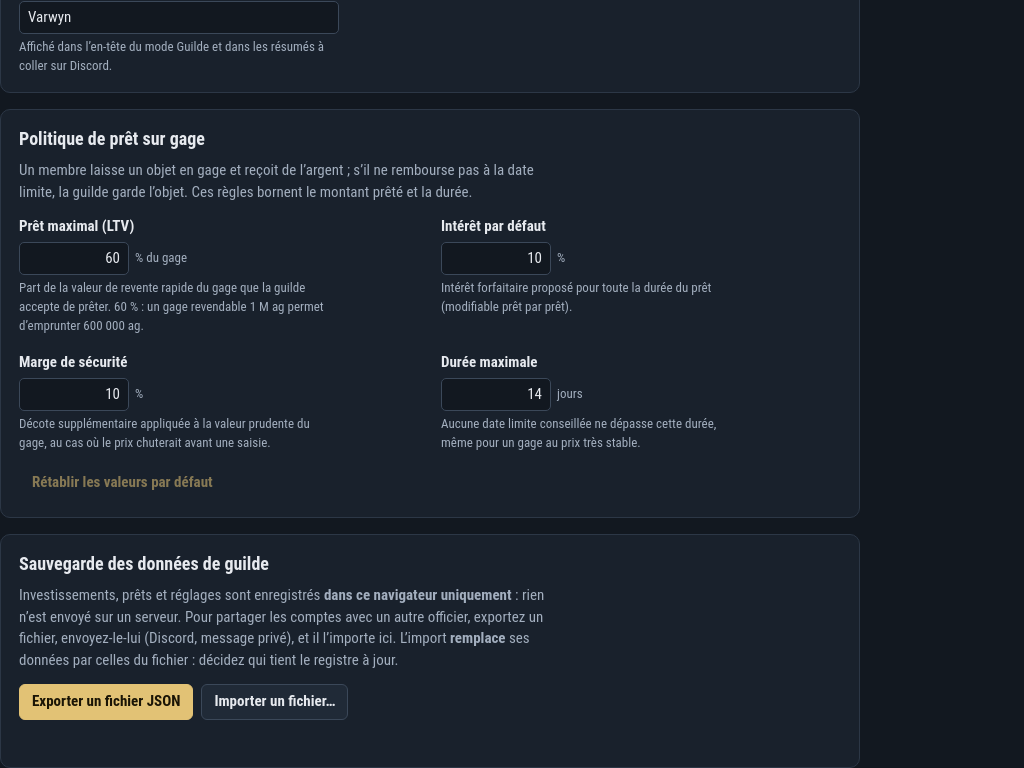
Test: réglages guilde : sauvegarde des données › export : fichier JSON horodaté avec investissements, prêts et réglages
(page scrolled)
Click the button "Exporter un fichier JSON": x=106, y=702 [19, 684, 193, 720]
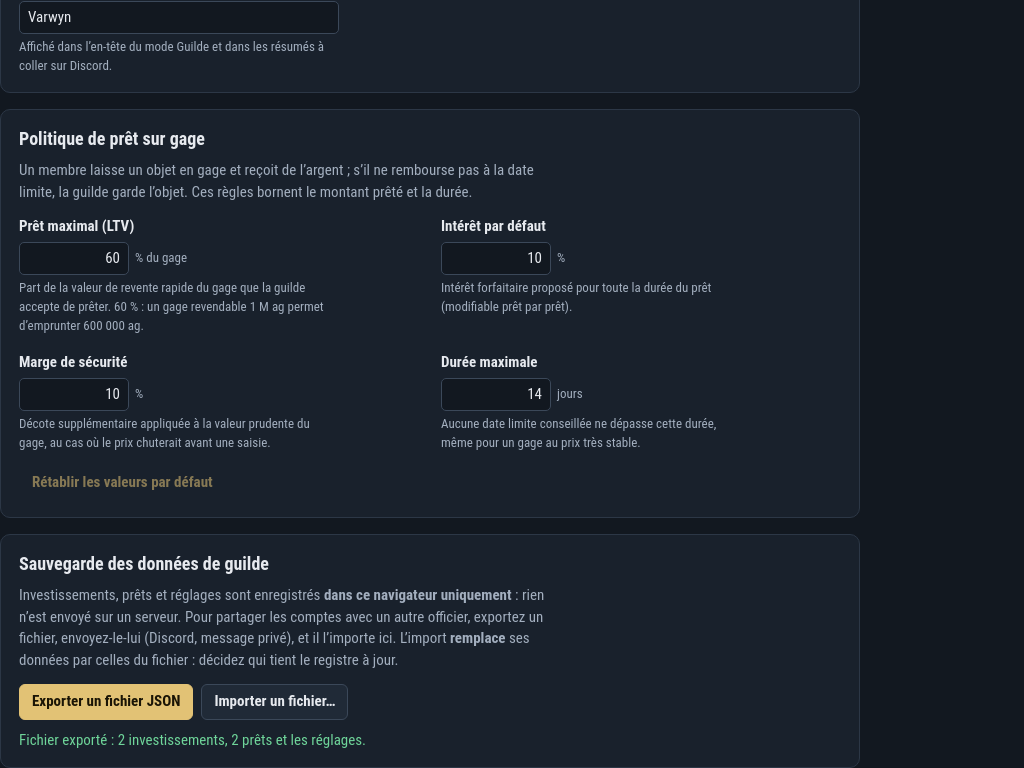
Result: the message shows "2 investissements, 2 prêts" at [19, 731, 366, 749]
